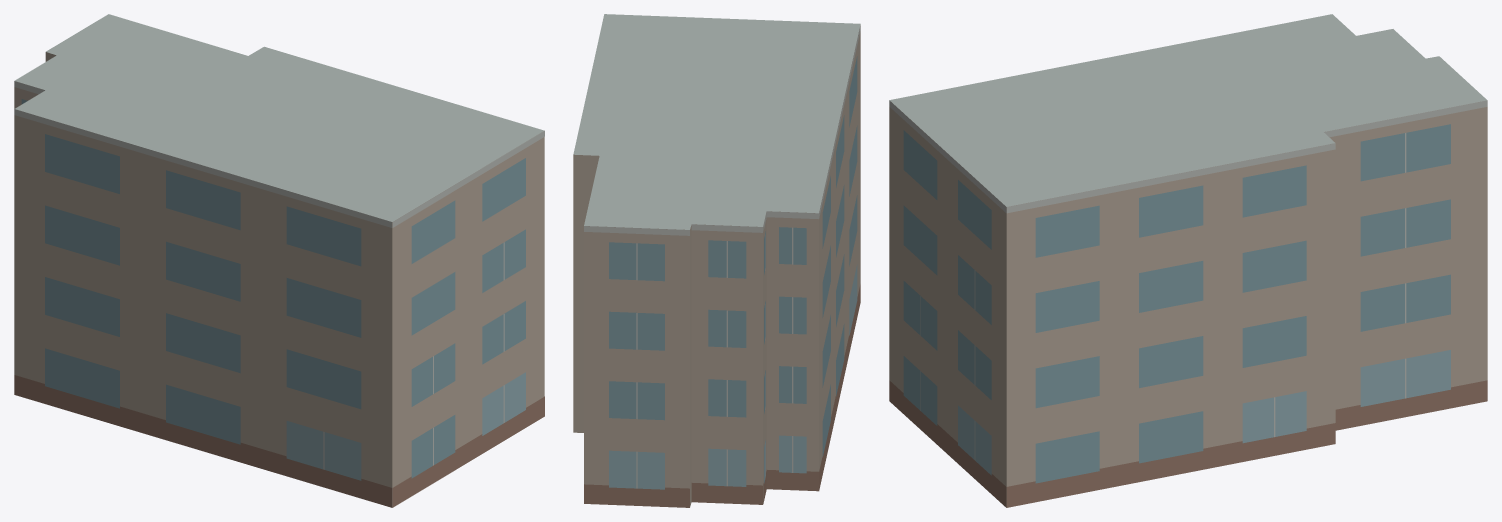
Rendered from survey-upis-32714035.glb.
3 renders of one model, left to right at view 1: azimuth 30°, elevation 25°; view 2: azimuth 150°, elevation 25°; view 3: azimuth 270°, elevation 25°, orthographic. The views are drawn at different scales.
Visible parts, largest first — view 1: survey-upis-32714035.tmp; view 2: survey-upis-32714035.tmp; view 3: survey-upis-32714035.tmp.
Boxes of the visible parts, x1,y1,x2,y2 form: survey-upis-32714035.tmp: [14, 14, 544, 507]; survey-upis-32714035.tmp: [573, 14, 860, 507]; survey-upis-32714035.tmp: [889, 14, 1487, 507].
Bounding box in the file's own units: 15.76 × 11.45 × 20.65.
